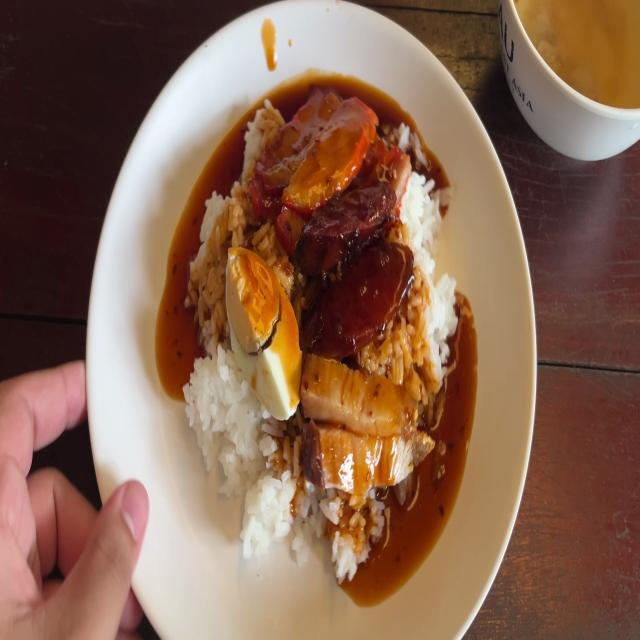01boiled_egg: (228, 244, 298, 420)
01chainese_sausage: (302, 238, 411, 360), (307, 198, 393, 267)
01crispy_pork: (301, 354, 417, 434), (312, 427, 431, 486)
01red_pork: (255, 89, 377, 222)
01red_pork_and_crispy_pork: (183, 100, 460, 588)
01rice: (187, 344, 253, 487), (239, 450, 304, 556), (393, 278, 459, 372), (189, 184, 225, 330), (314, 502, 374, 572), (404, 182, 440, 270), (247, 95, 276, 151)
